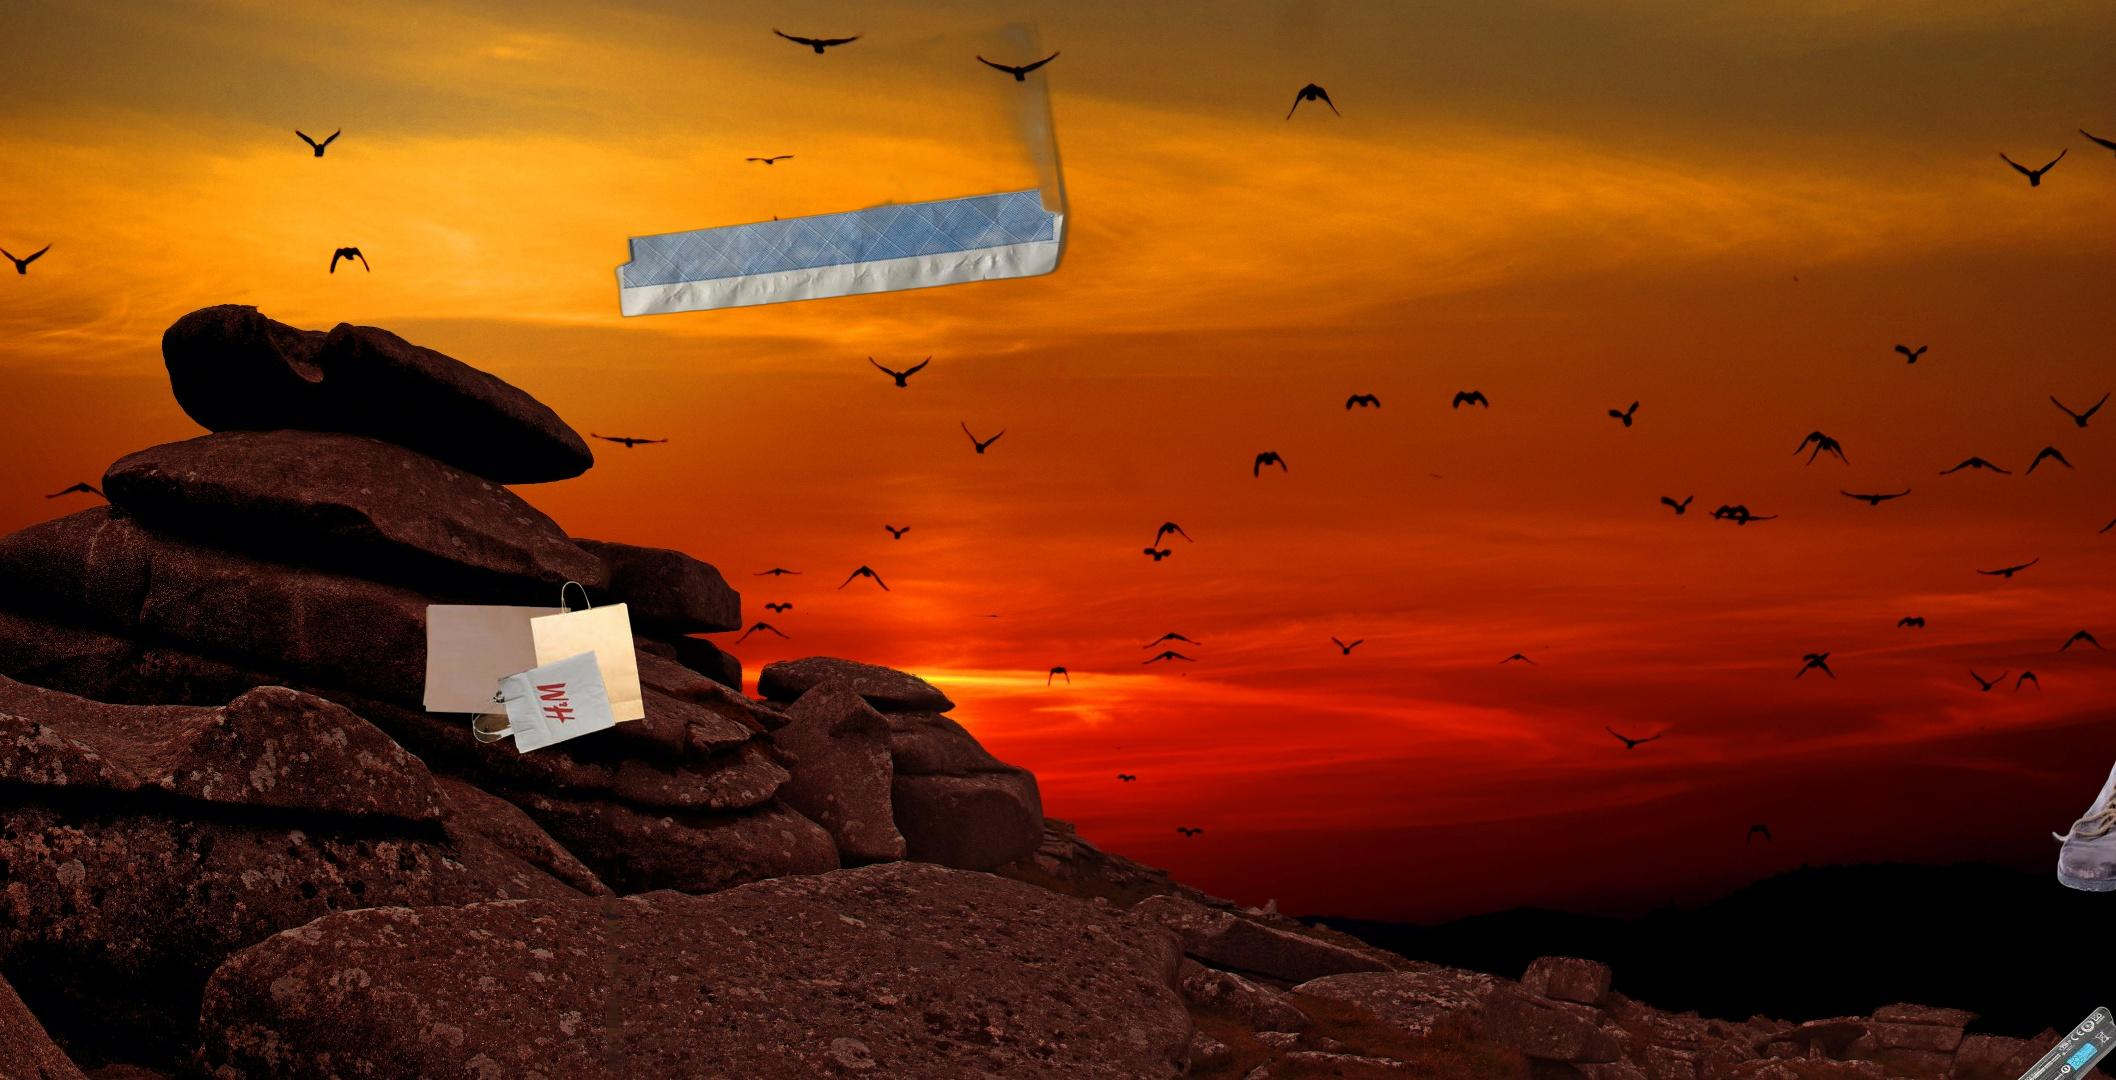battery: (1897, 1003, 2116, 1080)
paper: (611, 8, 1077, 320)
paper-bag: (419, 580, 653, 758)
shoes: (2049, 720, 2116, 908)
